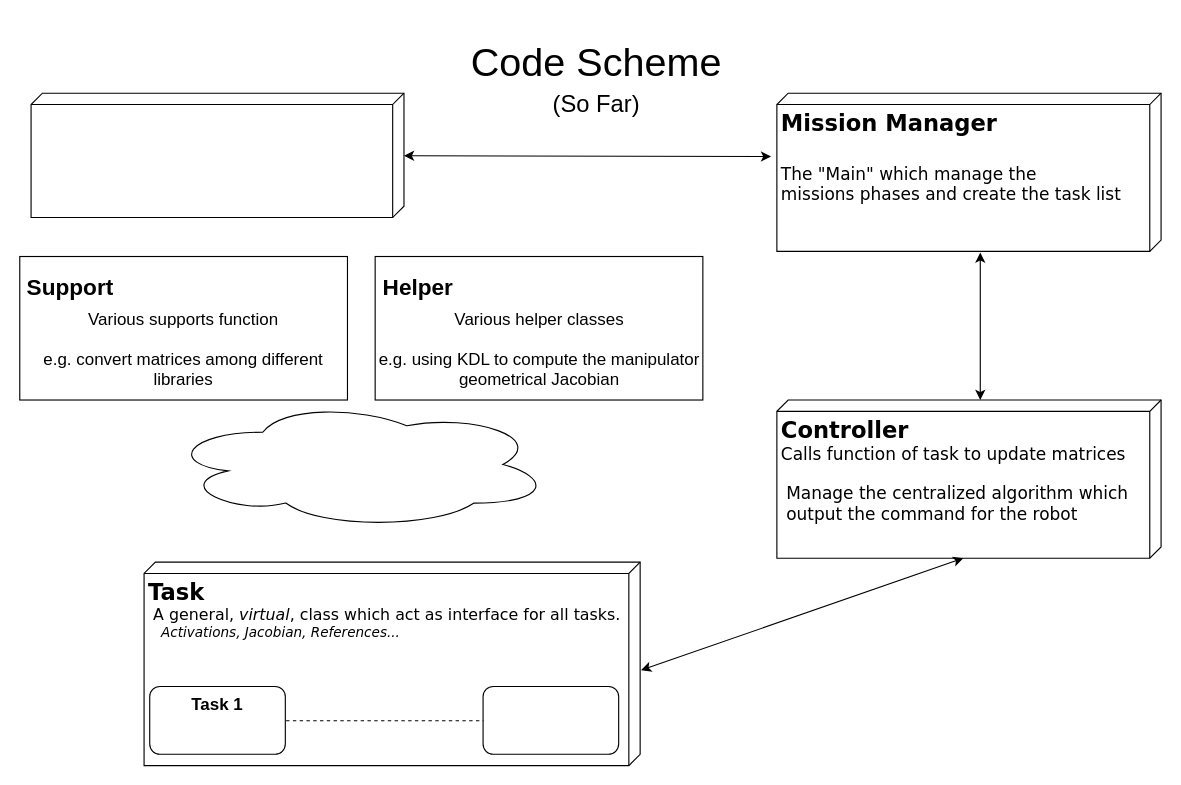
The diagram is 1181 pixels wide and 785 high, and some of its shapes have lost their labels. Here are the shapes that lost their labels. From the top down, the centre of each, then its label:
the point at 217,155: RosInterface Get state from robots and send commands
the point at 358,464: External Libraries Eigen, KDL, CMAT, TF...
the point at 550,719: Task n
